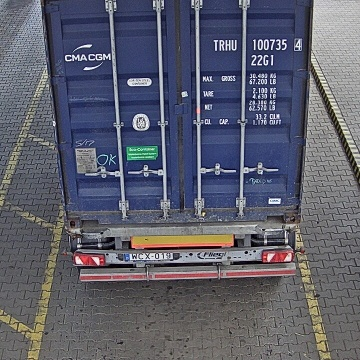serial_id: (213, 38, 302, 50)
